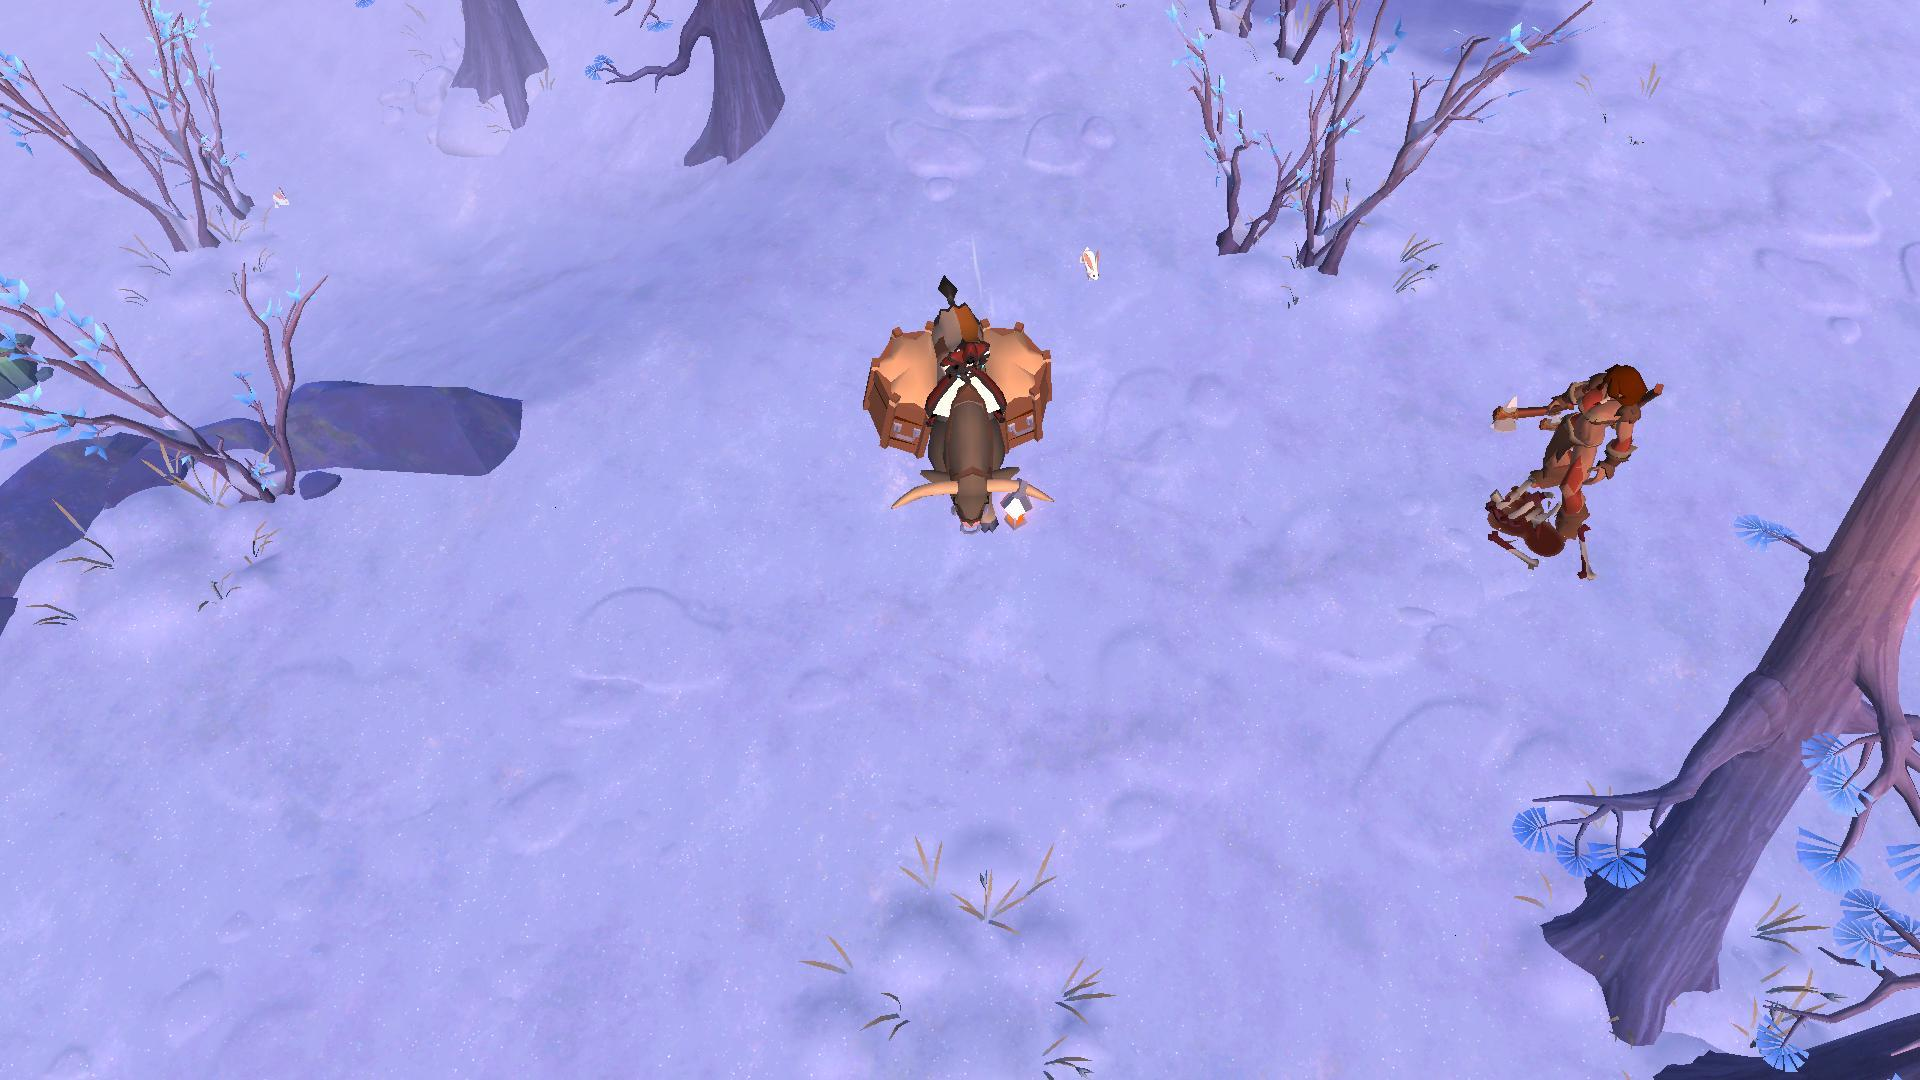enemy_factionKeeper: (1474, 348, 1648, 530)
